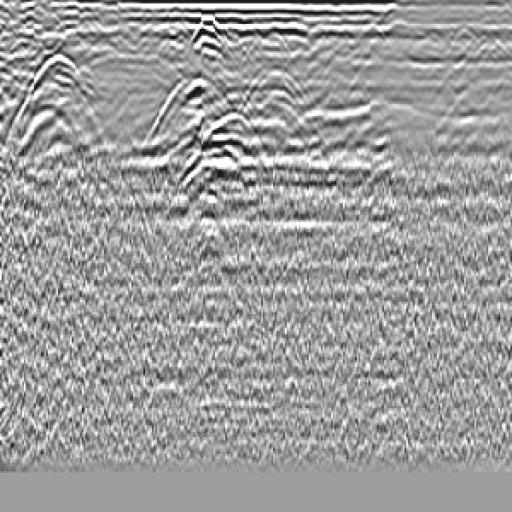metalic: (138, 14, 247, 239)
nonmetalic: (12, 37, 108, 218), (245, 49, 332, 151)
